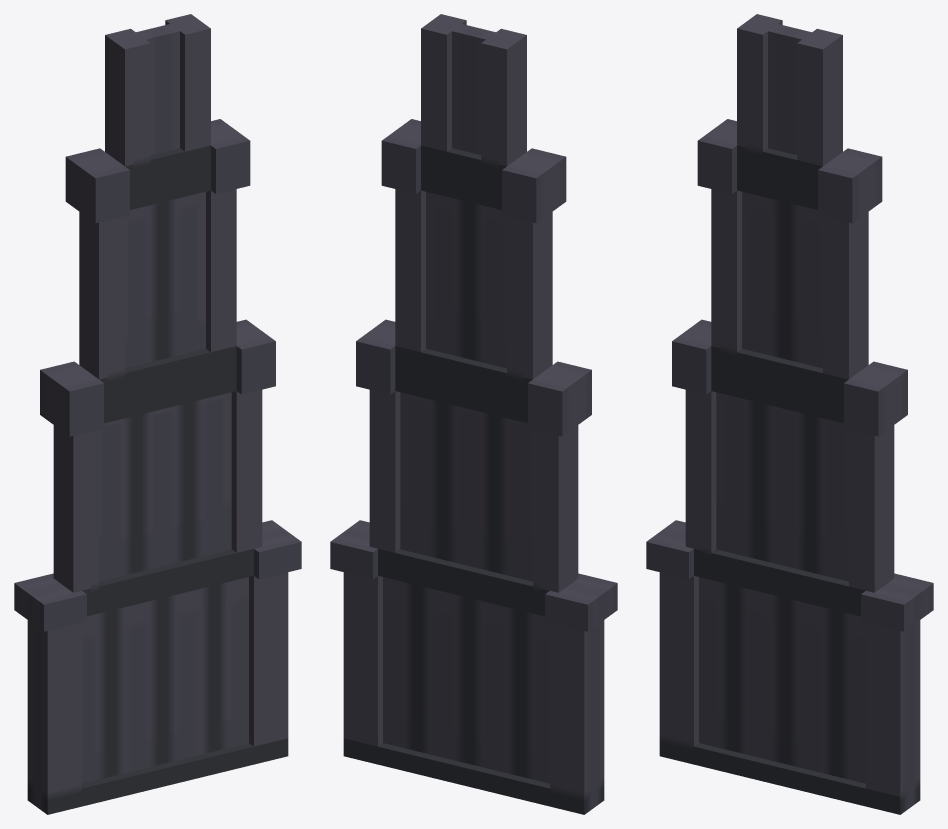
The model's file is Roof_Panel-2.fbx.
3 renders of one model, left to right at view 1: azimuth 30°, elevation 25°; view 2: azimuth 150°, elevation 25°; view 3: azimuth 330°, elevation 25°, orthographic.
Visible parts, largest first — view 1: Roof_Panel-2; view 2: Roof_Panel-2; view 3: Roof_Panel-2.
Part boxes in pixels (<box>): Roof_Panel-2: <box>14,14,301,814</box>; Roof_Panel-2: <box>330,14,617,814</box>; Roof_Panel-2: <box>646,14,933,814</box>.
Size of the model in its own units: 150 by 415 by 30.
